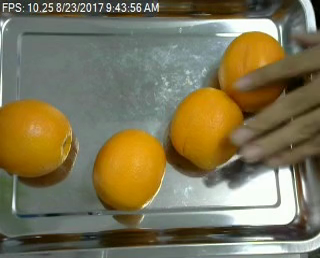Orange: (94, 129, 166, 211), (0, 99, 71, 177)
